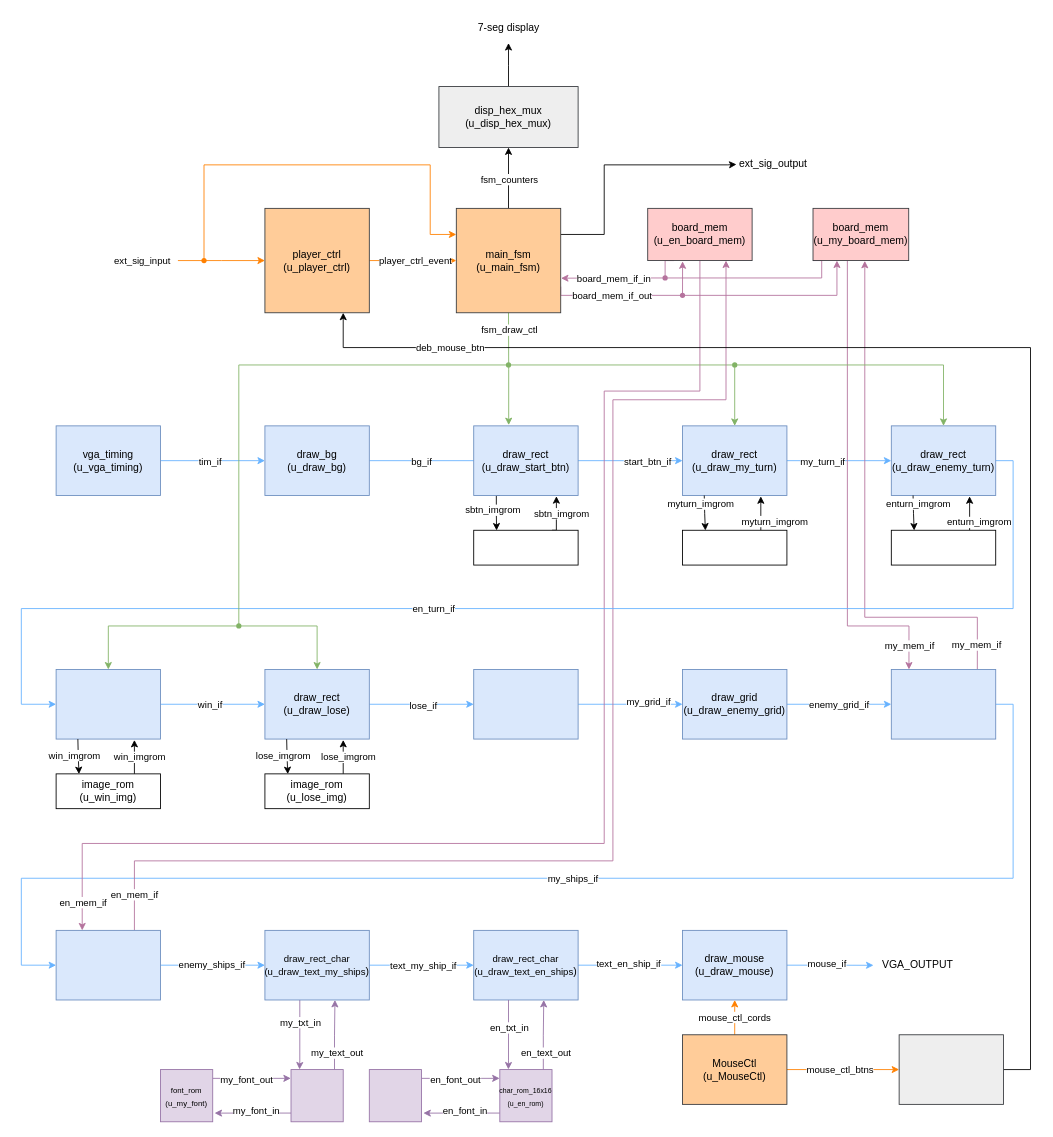
This 1053x1137 diagram has some shape labels left out. Each missing label, with the box of its shape:
char_rom_16x16 (u_my_rom): (290, 1069, 343, 1122)
debounce (u_mouse_debounce): (898, 1034, 1004, 1104)
draw_grid (u_draw_my_grid): (473, 669, 578, 739)
draw_rect (u_draw_win): (55, 669, 161, 739)
draw_ships (u_draw_enemy_ships): (55, 930, 161, 1000)
draw_ships (u_draw_my_ships): (890, 669, 996, 739)
font_rom (u_en_font): (368, 1069, 422, 1122)
image_rom (u_en_turn_img): (890, 529, 996, 565)
image_rom (u_my_turn_img): (682, 529, 787, 565)
image_rom (u_start_btn_img): (473, 529, 578, 565)
